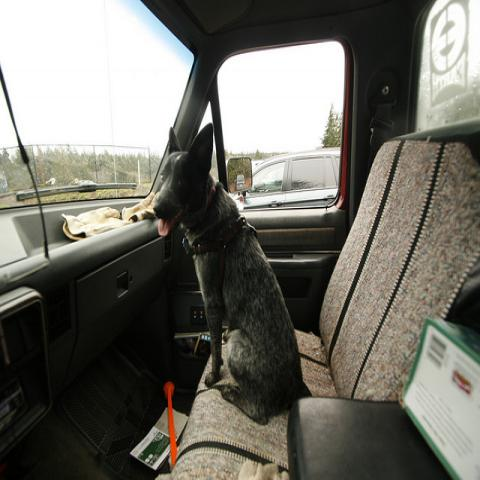car: (0, 0, 479, 479), (240, 145, 342, 209)
